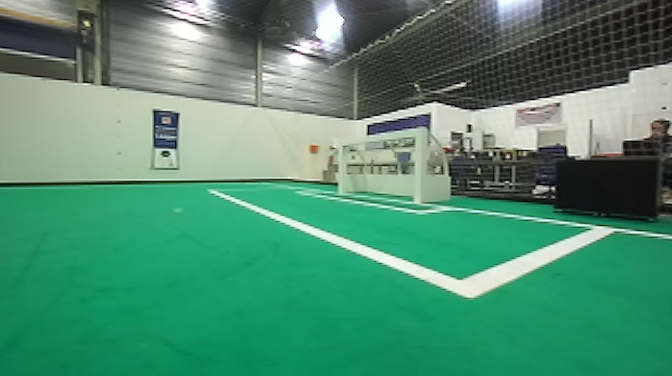goalpost: (408, 127, 427, 203), (328, 138, 349, 194)
